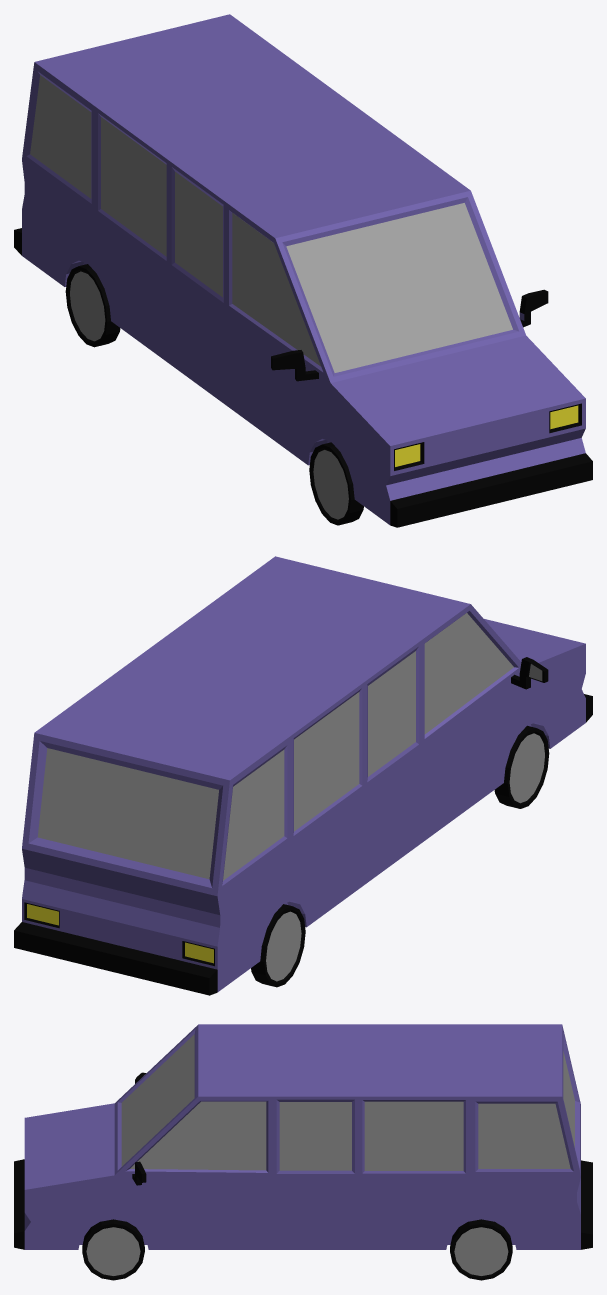
Rendered from Minivan 1.fbx.
3 renders of one model, top to bottom at view 1: azimuth 30°, elevation 25°; view 2: azimuth 150°, elevation 25°; view 3: azimuth 270°, elevation 25°, orthographic. The views are drawn at different scales.
Visible parts, largest first — view 1: Minivan Body.001, Wheel FR.011, Wheel RR.010; view 2: Minivan Body.001, Wheel RR.010, Wheel FR.011; view 3: Minivan Body.001, Wheel RL.010, Wheel FL.011.
Part boxes in pixels (x1,y1,x2,y2): Minivan Body.001: (14, 14, 592, 527); Wheel FR.011: (309, 442, 363, 525); Wheel RR.010: (65, 264, 120, 347); Minivan Body.001: (14, 556, 592, 995); Wheel RR.010: (251, 904, 305, 987); Wheel FR.011: (494, 725, 549, 808); Minivan Body.001: (14, 1024, 592, 1249); Wheel RL.010: (450, 1219, 512, 1280); Wheel FL.011: (82, 1219, 144, 1280).
Bounding box in the file's own units: 2.04 × 1.71 × 4.91.
